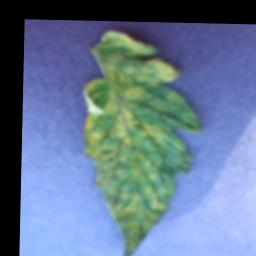Leaf_Mold: (79, 29, 205, 256)
